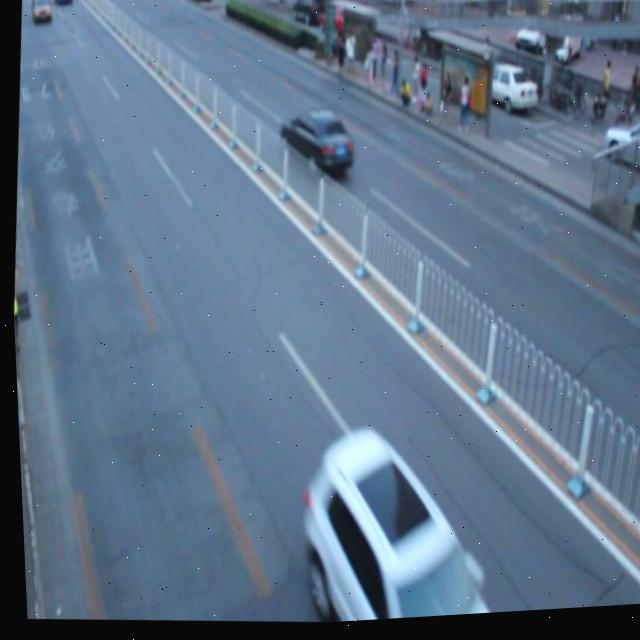car: (288, 427, 500, 627), (274, 107, 356, 182)
